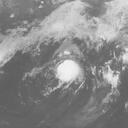cyclone: (54, 59, 81, 84)
